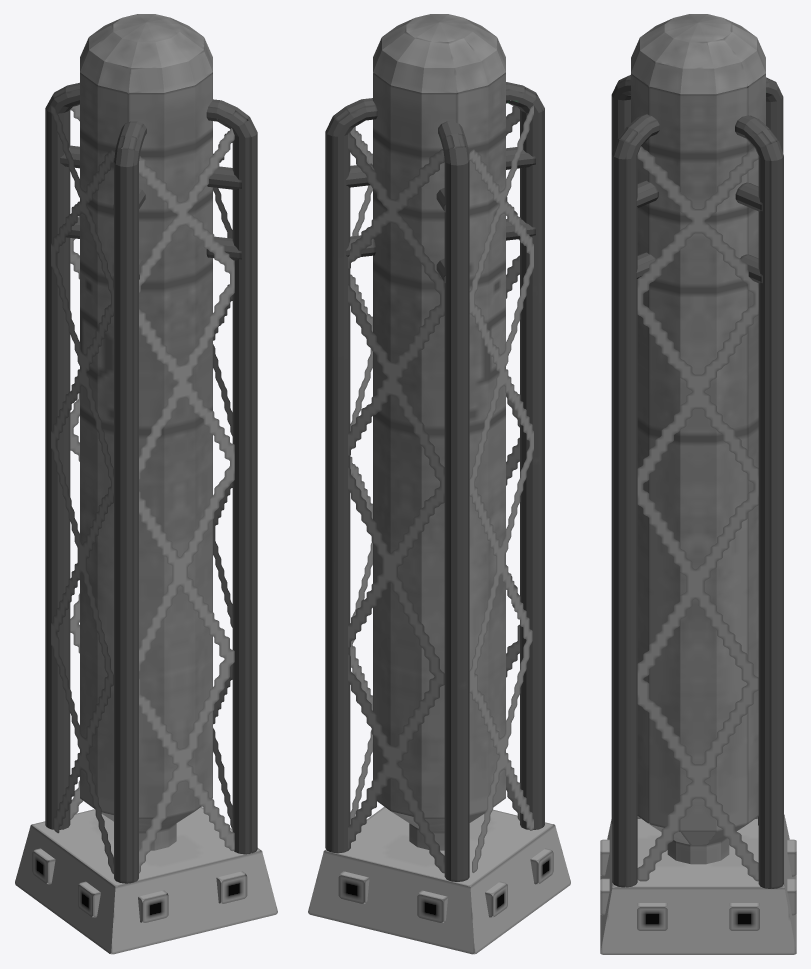
File: deuterium_extraction_tower.obj
The picture shows the model from 3 angles, left to right: view 1: azimuth 30°, elevation 25°; view 2: azimuth 150°, elevation 25°; view 3: azimuth 270°, elevation 25°; orthographic projection.
Visible parts, largest first — view 1: mesh; view 2: mesh; view 3: mesh.
Part boxes in pixels (<box>): mesh: <box>15,14,277,954</box>; mesh: <box>308,14,570,954</box>; mesh: <box>600,14,796,954</box>.
Size of the model in its own units: 2 by 10 by 2.
